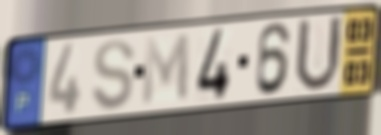4: (47, 40, 86, 119), (194, 26, 233, 103)
6: (254, 19, 292, 98)
M: (140, 31, 192, 109)
S: (89, 36, 137, 113)
U: (292, 14, 345, 96)
